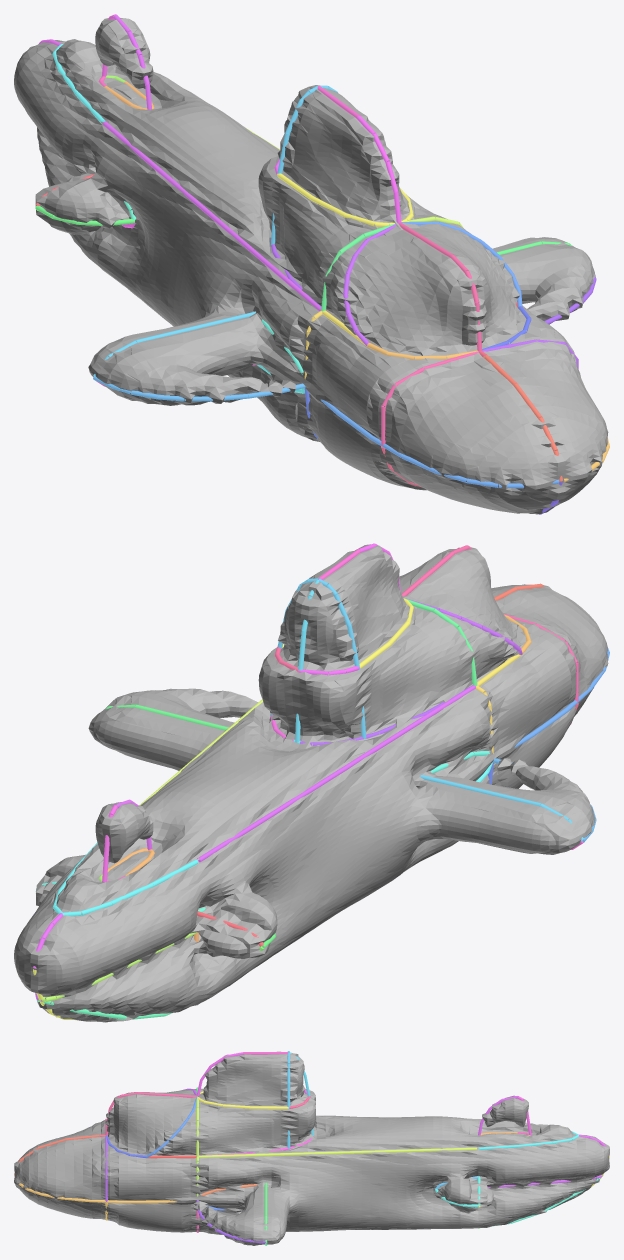
File: scaffolds3d_submarine.gltf
The picture shows the model from 3 angles, top to bottom: view 1: azimuth 30°, elevation 25°; view 2: azimuth 150°, elevation 25°; view 3: azimuth 270°, elevation 25°; orthographic projection. The views are drawn at different scales.
Bounding box in the file's own units: 0.4603 × 0.27 × 0.8569.
